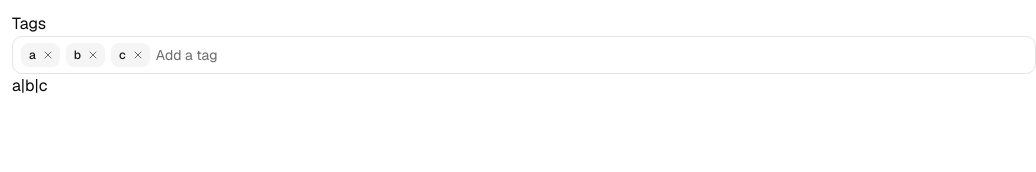
Test: TagsInput › removes a specific tag with its remove button
The image size is (1036, 172).
Click the button named "Remove tag b".
click(93, 55)  # box [83, 45, 103, 65]
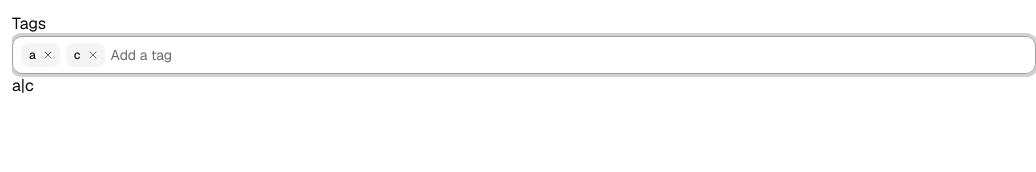
Now the text with test id "tags" reads "a|c", box [12, 75, 34, 96]
